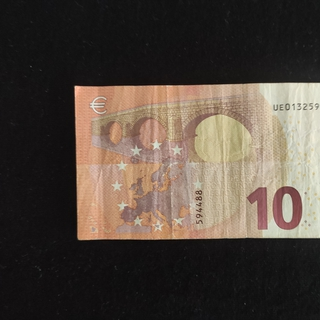10EUROBack: (73, 80, 320, 240)
